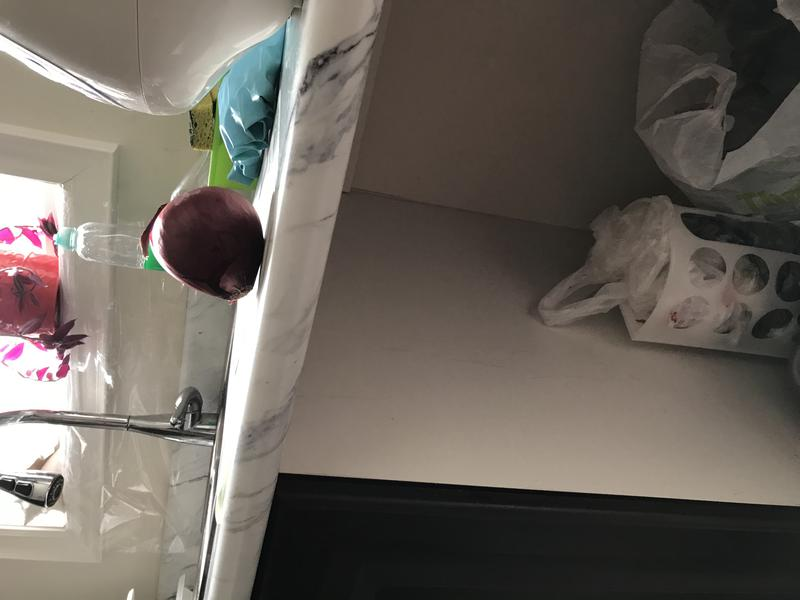purple_onion: (138, 181, 270, 312)
